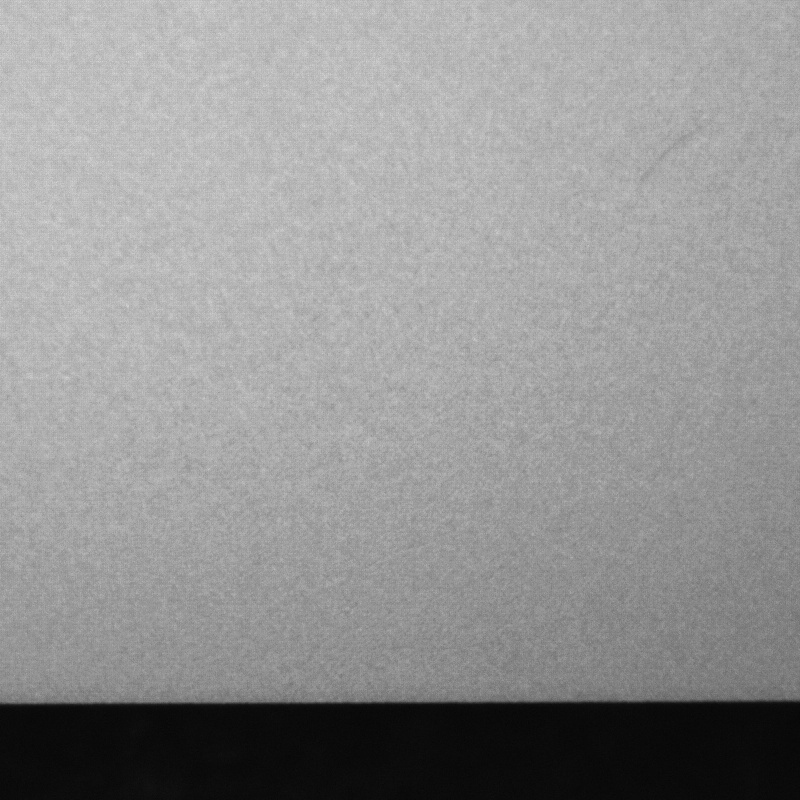defect: (644, 110, 716, 178)
